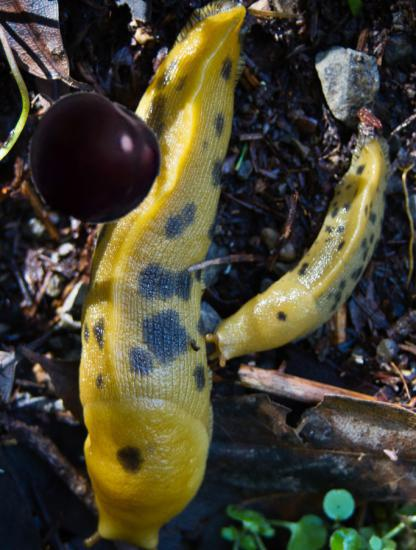Cherry: (25, 92, 161, 228)
